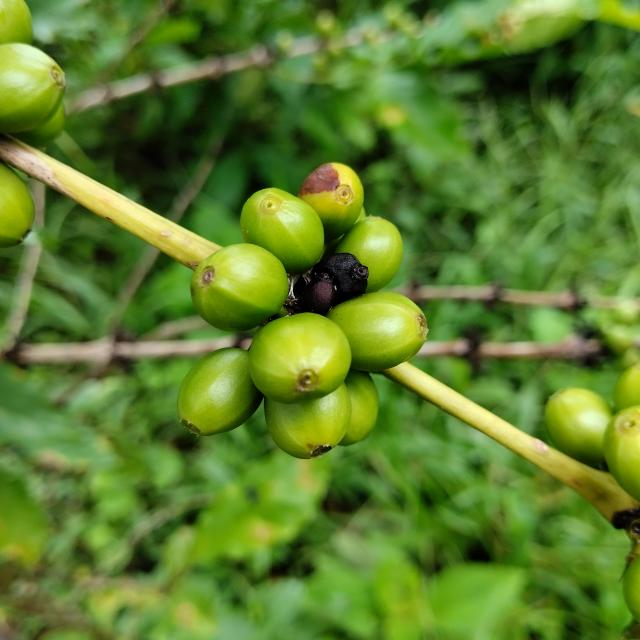green: (249, 313, 352, 404), (190, 243, 289, 331), (327, 292, 429, 372), (177, 348, 263, 436), (240, 187, 324, 274), (264, 383, 352, 460), (0, 42, 65, 133), (546, 388, 612, 468), (336, 216, 403, 293), (604, 406, 640, 502), (339, 369, 379, 446), (0, 162, 34, 247)
red: (298, 162, 364, 241)
